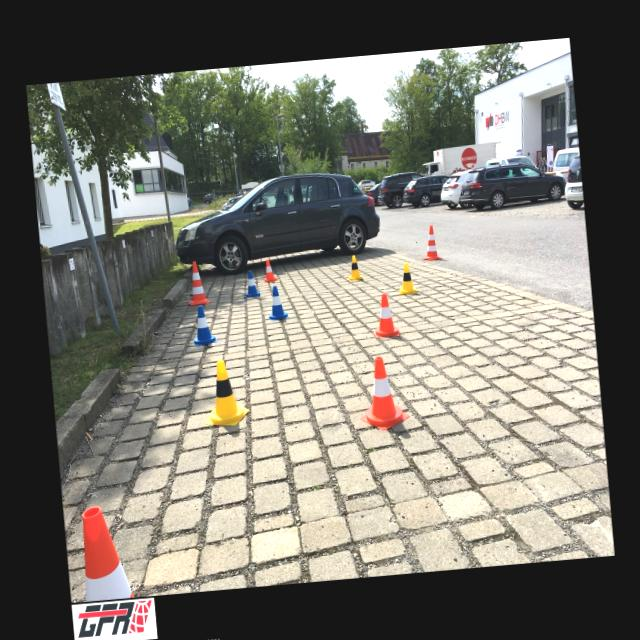blue_cone: (189, 304, 218, 346), (265, 284, 290, 320), (242, 270, 260, 298)
large_orange_cone: (78, 503, 132, 601), (184, 259, 210, 305), (419, 223, 442, 260)
orange_cone: (354, 354, 410, 432), (372, 292, 399, 338), (262, 258, 277, 282)
yellow_cone: (200, 358, 250, 428), (396, 262, 418, 295), (346, 253, 364, 280)
